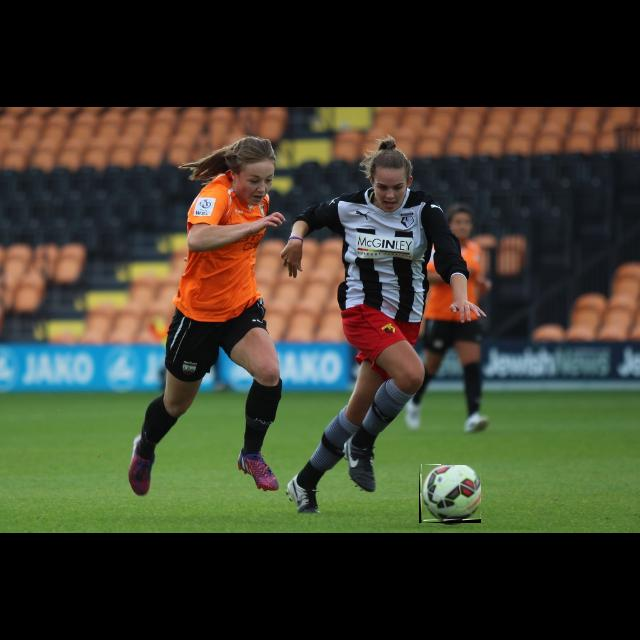Football: (419, 465, 481, 523)
